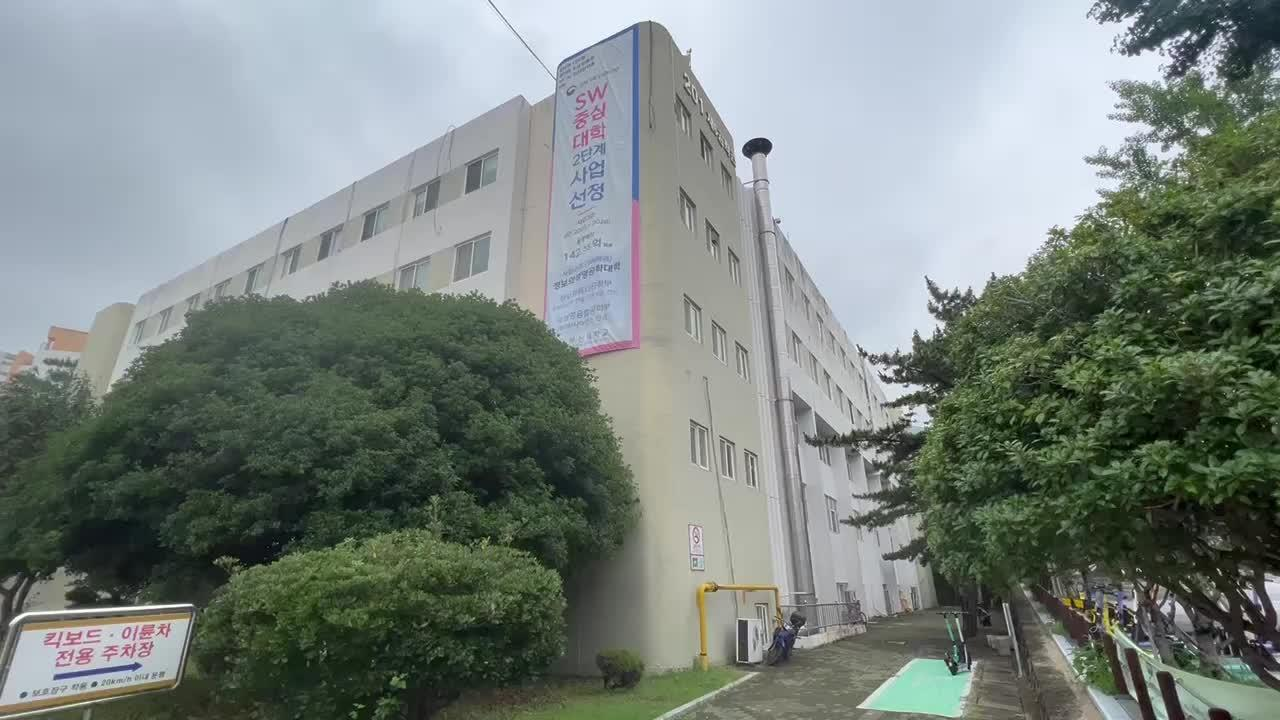building: (374, 23, 863, 372)
